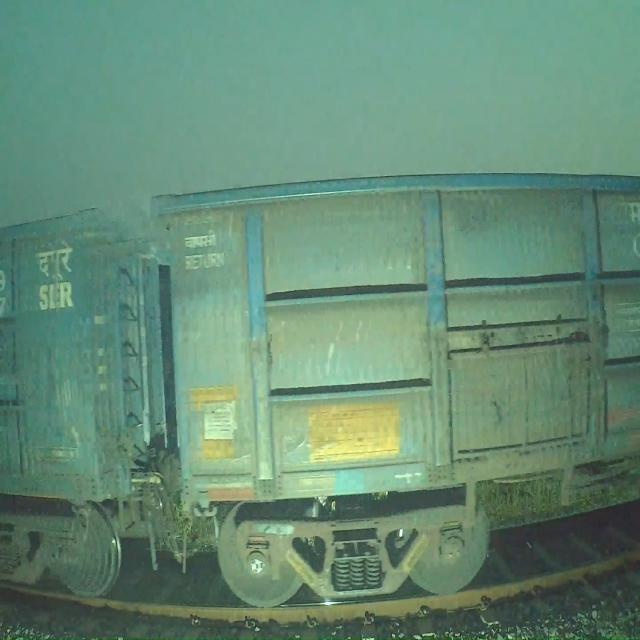WAgon-uic: (147, 166, 640, 614), (0, 202, 218, 602)
